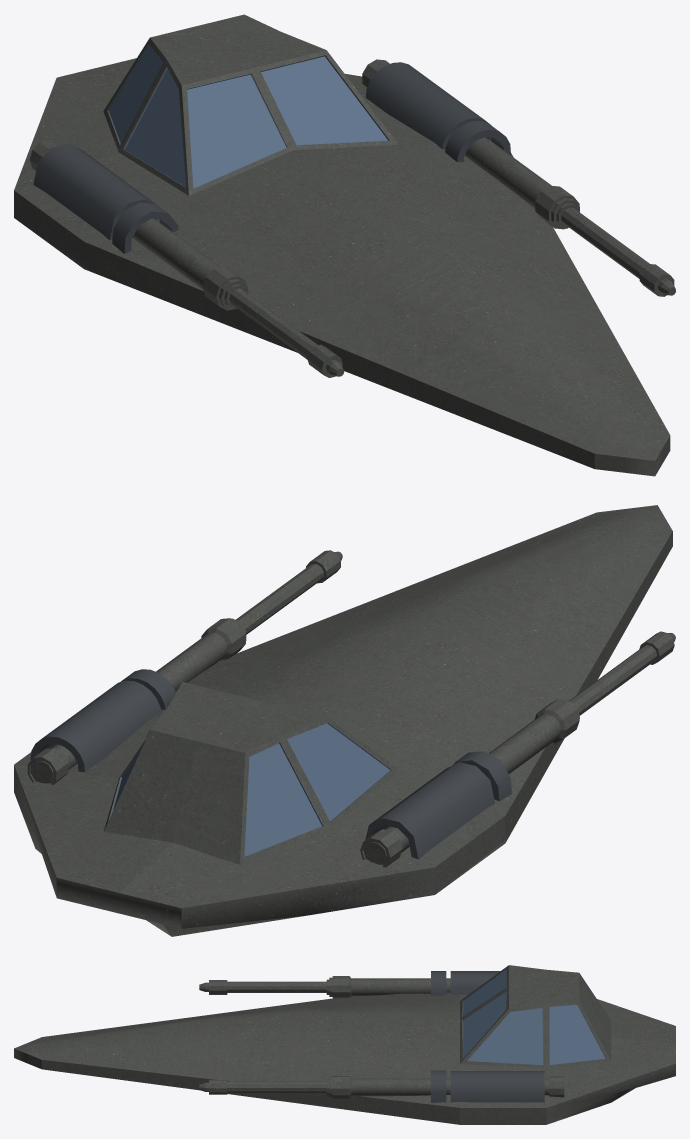
Rendered from nave.fbx.
The picture shows the model from 3 angles, top to bottom: view 1: azimuth 30°, elevation 25°; view 2: azimuth 150°, elevation 25°; view 3: azimuth 270°, elevation 25°; orthographic projection. The views are drawn at different scales.
Visible parts, largest first — view 1: nave_combine; view 2: nave_combine; view 3: nave_combine.
Part boxes in pixels (x1=…): nave_combine: x1=14, y1=14, x2=675, y2=476; nave_combine: x1=14, y1=505, x2=675, y2=936; nave_combine: x1=14, y1=965, x2=675, y2=1124.
Bounding box in the file's own units: 1.38 × 0.5543 × 3.06.
